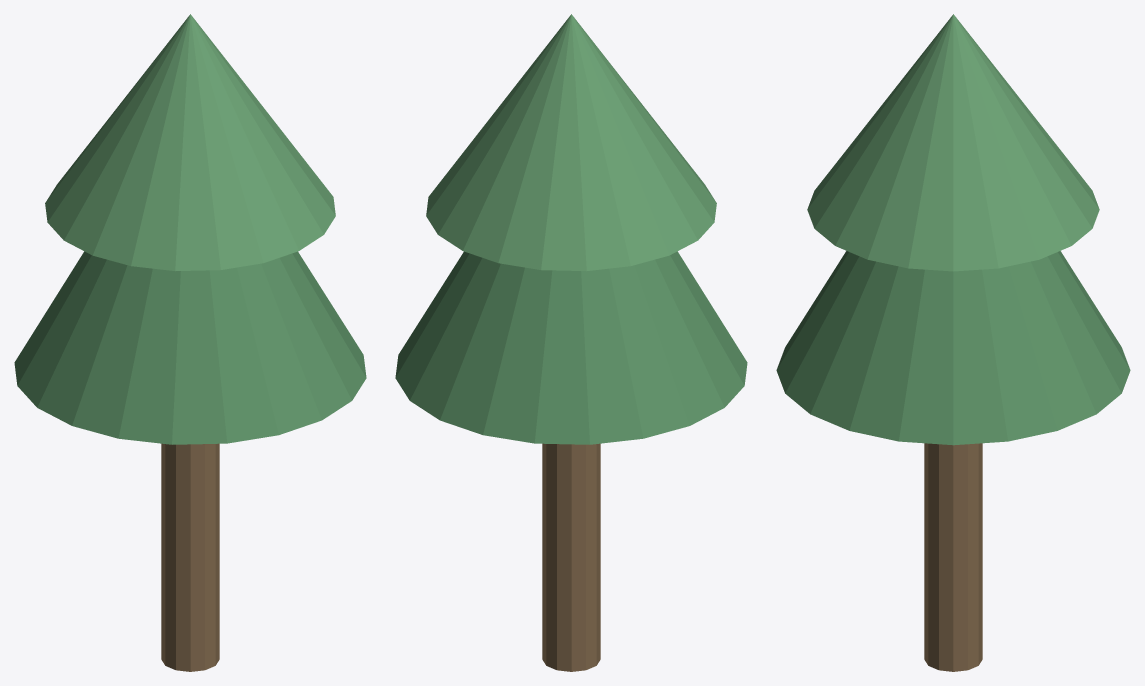
The model's file is tiny_pine_tree.glb.
The picture shows the model from 3 angles, left to right: view 1: azimuth 30°, elevation 25°; view 2: azimuth 150°, elevation 25°; view 3: azimuth 270°, elevation 25°; orthographic projection.
Parts seen in each view (by area): view 1: tree_0_1, tree_0_2, tree_0_0; view 2: tree_0_1, tree_0_2, tree_0_0; view 3: tree_0_1, tree_0_2, tree_0_0.
Boxes of the visible parts, left/top/right/bottom form: tree_0_1: left=14, top=251, right=366, bottom=444; tree_0_2: left=45, top=14, right=335, bottom=271; tree_0_0: left=161, top=443, right=219, bottom=671; tree_0_1: left=395, top=251, right=747, bottom=444; tree_0_2: left=426, top=14, right=716, bottom=271; tree_0_0: left=542, top=443, right=600, bottom=671; tree_0_1: left=776, top=251, right=1130, bottom=445; tree_0_2: left=807, top=14, right=1099, bottom=271; tree_0_0: left=924, top=443, right=982, bottom=671.
Bounding box in the file's own units: 0.8625 × 1.74 × 0.8625.
